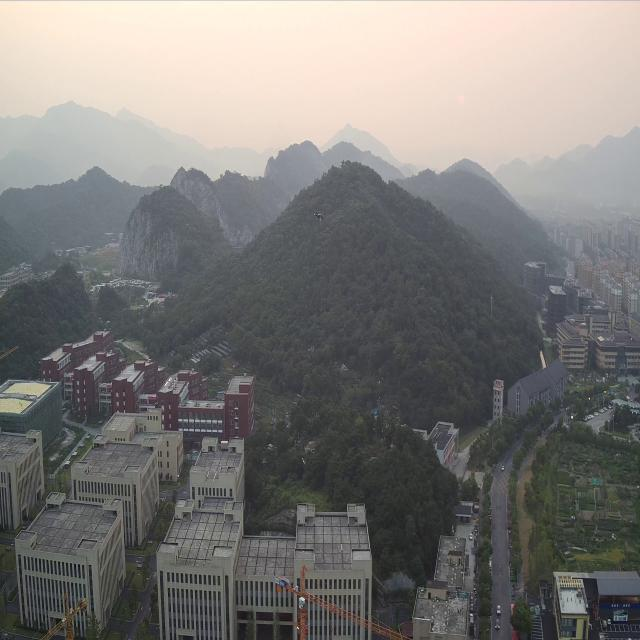UAV: (313, 210, 324, 220)
